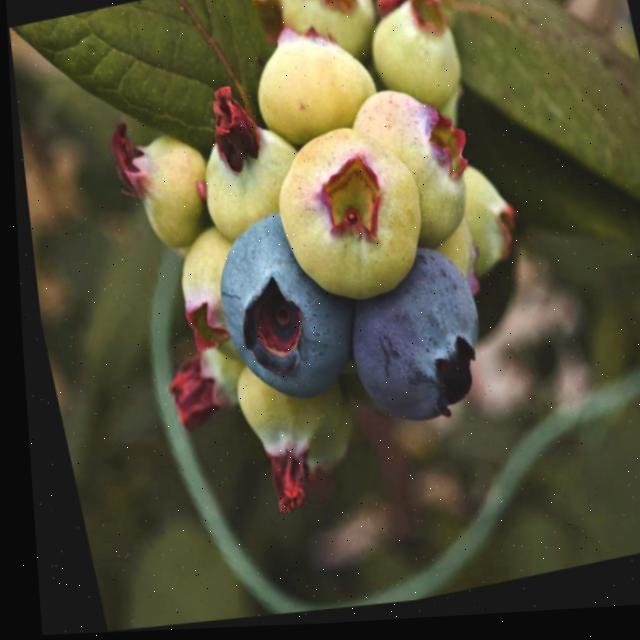RipeBlueBerry: (188, 204, 352, 423), (318, 247, 491, 448)
UnripeBlueBerry: (251, 115, 435, 326), (339, 81, 476, 269), (236, 23, 385, 162), (178, 118, 303, 250), (112, 123, 212, 260), (357, 0, 465, 123)
